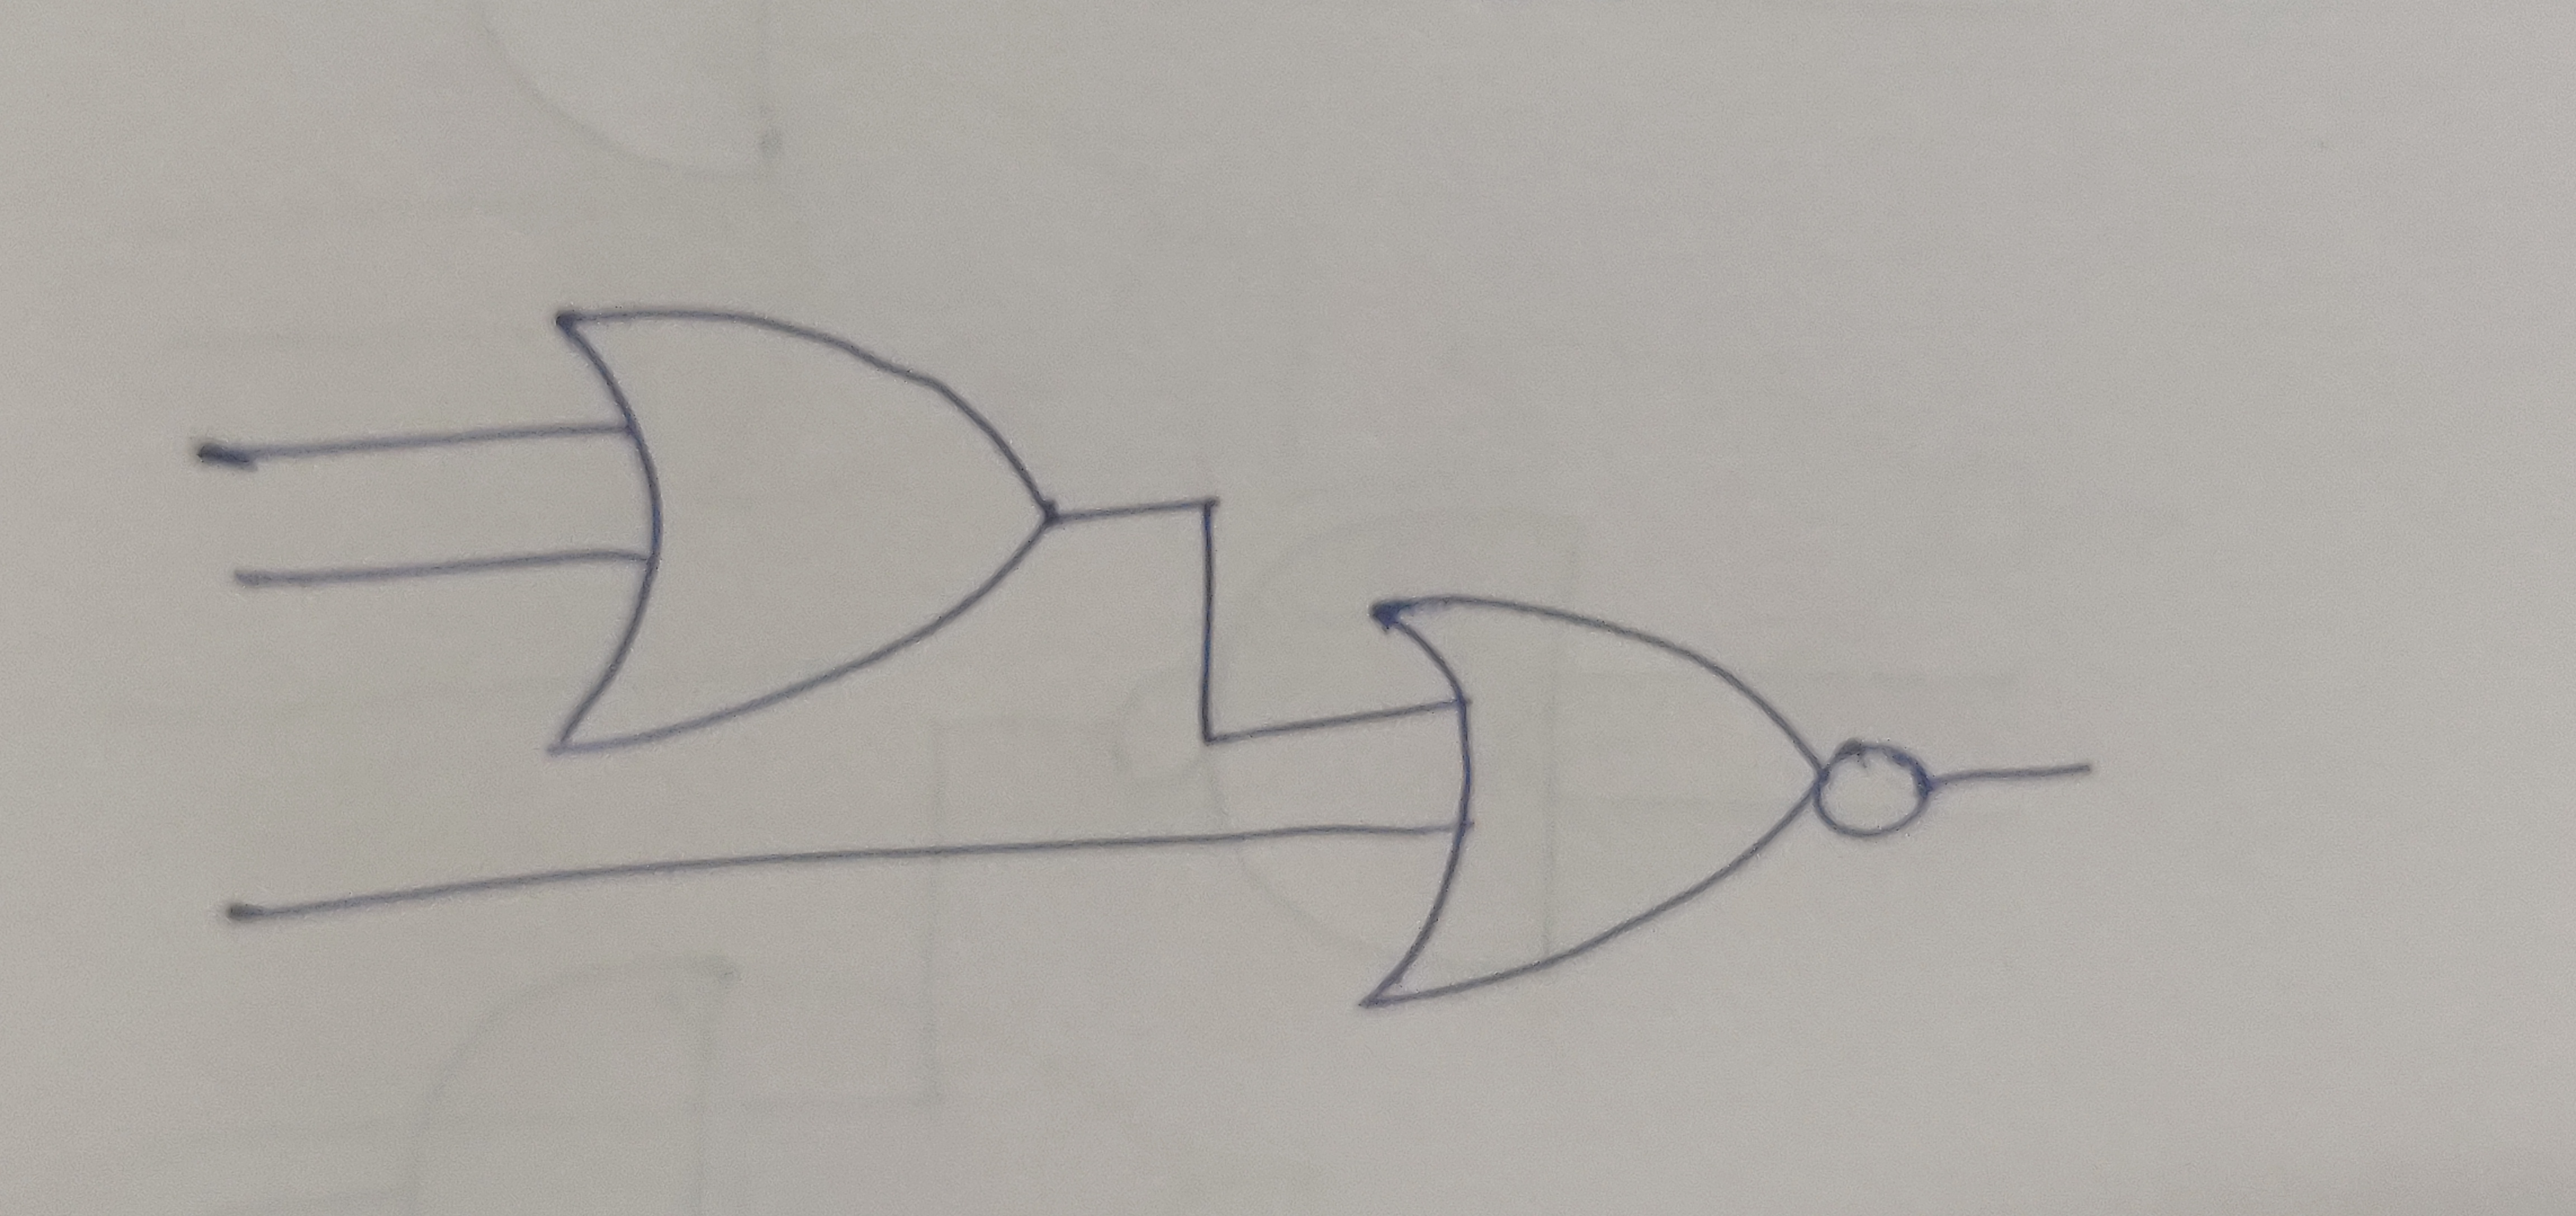not: (1817, 733, 1945, 848)
or: (534, 296, 1065, 759), (1350, 585, 1830, 1009)
